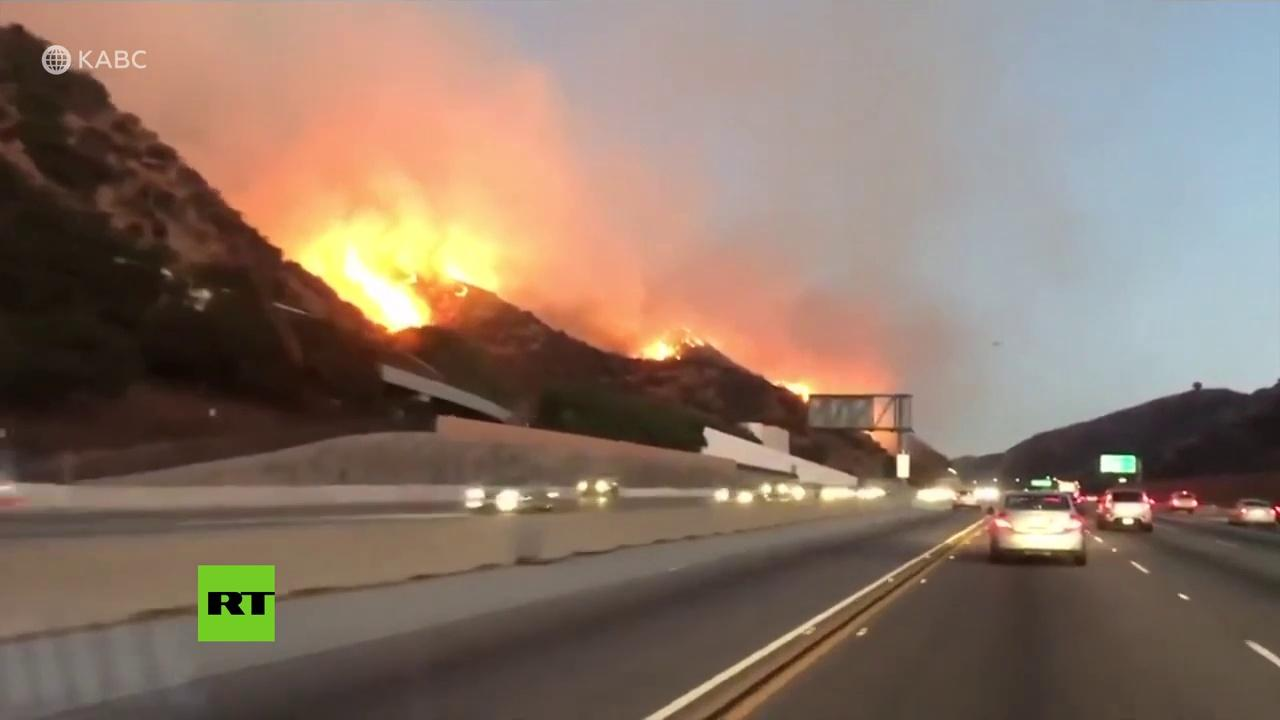Fire: (298, 219, 505, 340), (636, 328, 709, 365), (776, 378, 816, 404)
